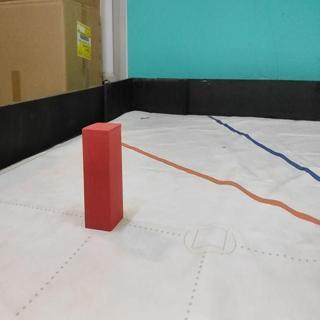redbox: (83, 121, 124, 232)
